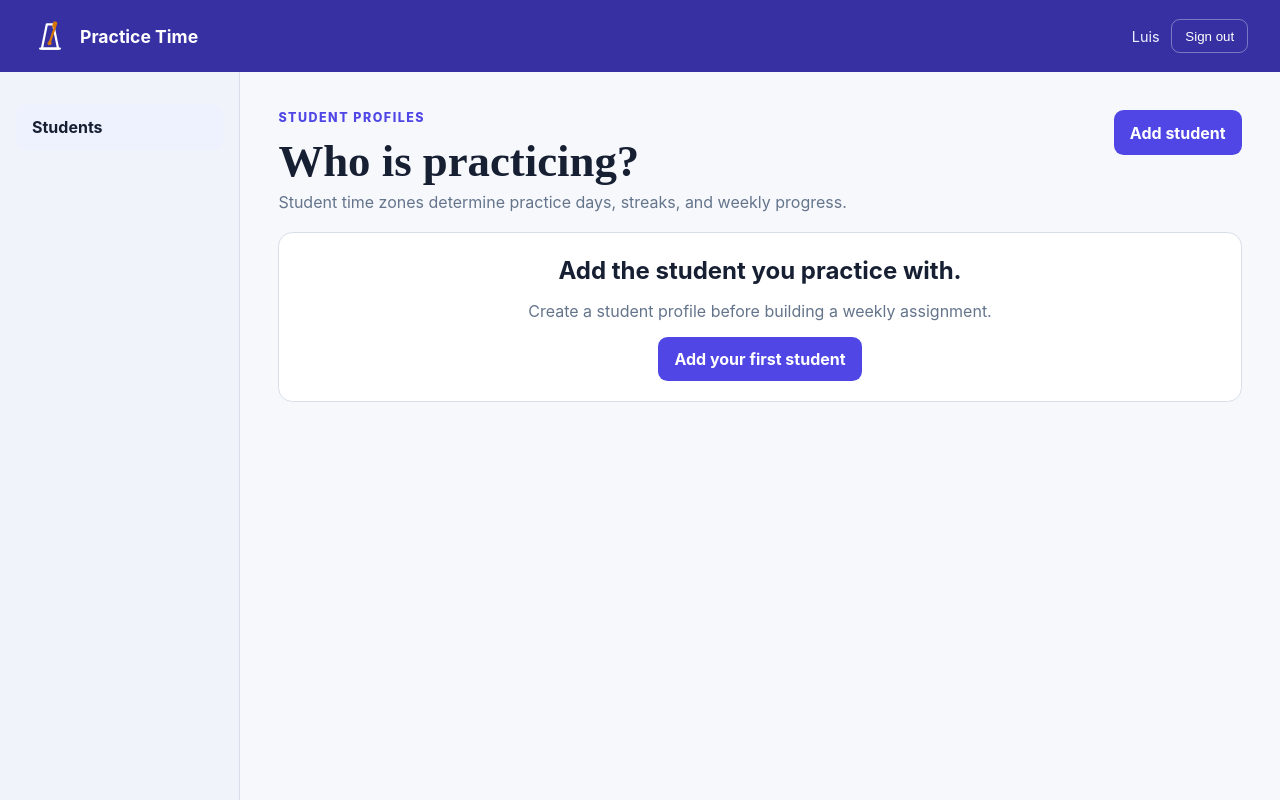
it: authentication flow › clears authentication and returns to login on logout
This screenshot has width=1280, height=800.
Click the button "Sign out" at {"x": 1210, "y": 36}, box [1172,19,1248,53]
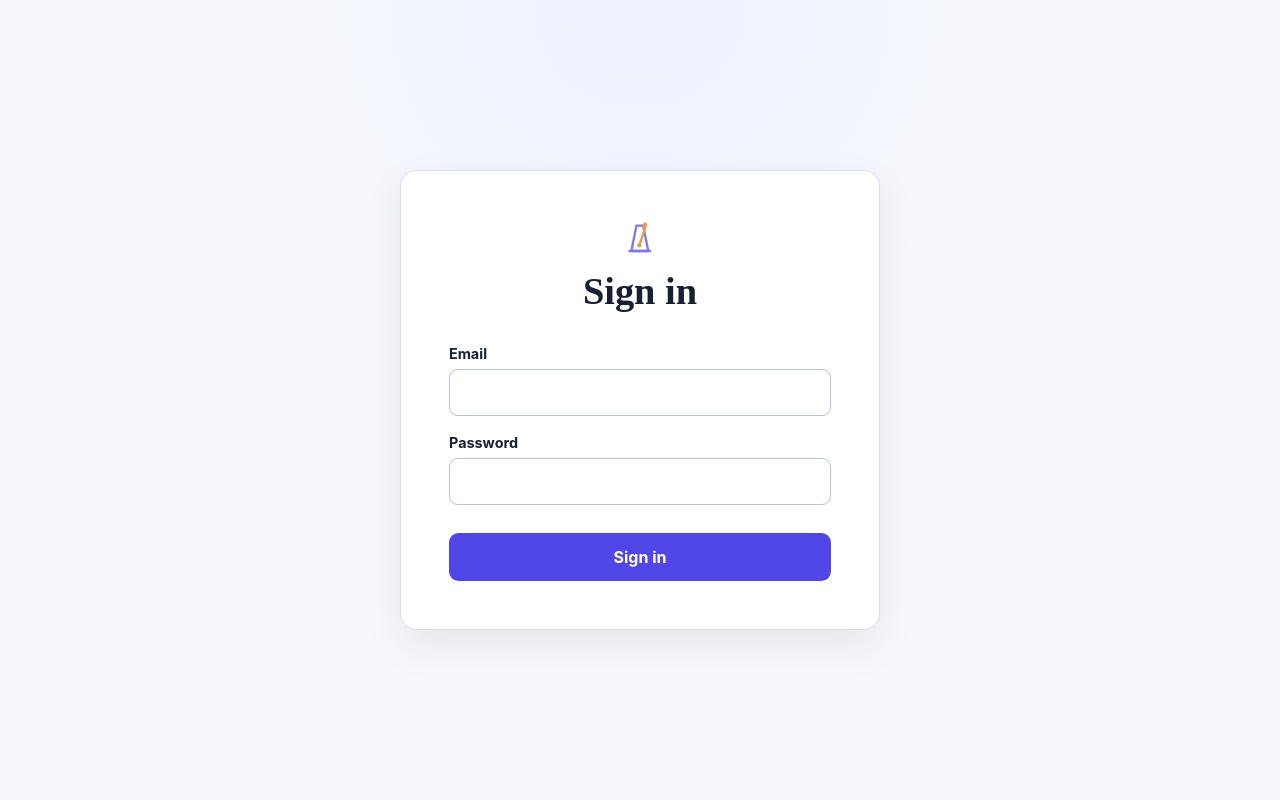
Expected: the heading "Sign in" is shown, [583,270,697,312]
